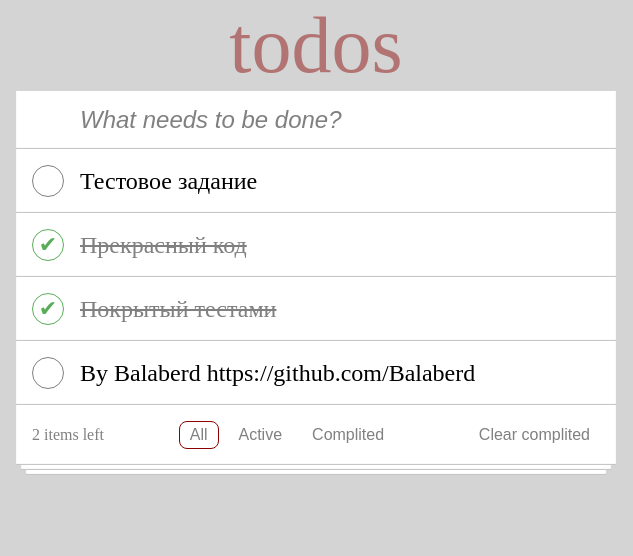
Scenario: App tests › add todo
Expected: the number of elements with test id "todo-item" is 4, x1=16 y1=149 x2=616 y2=213; x1=16 y1=213 x2=616 y2=277; x1=16 y1=277 x2=616 y2=341; x1=16 y1=341 x2=616 y2=405
In the field with test id "input-elem": x=235, y=120 x1=80 y1=107 x2=390 y2=133, type "hello world"
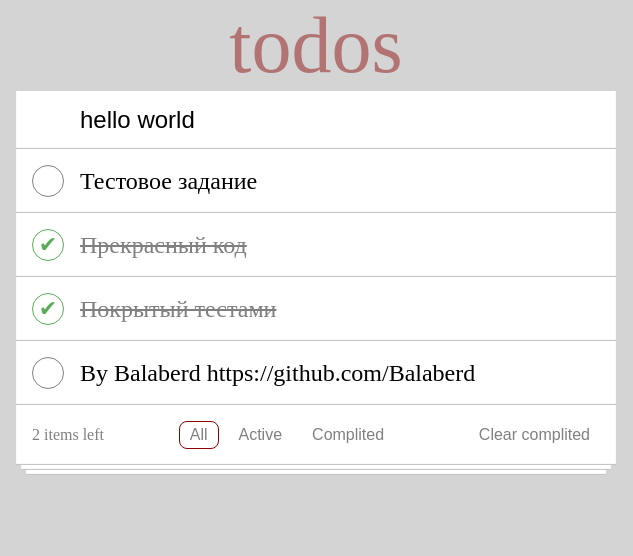
Press Enter in the field with test id "input-elem", box x1=80 y1=107 x2=390 y2=133
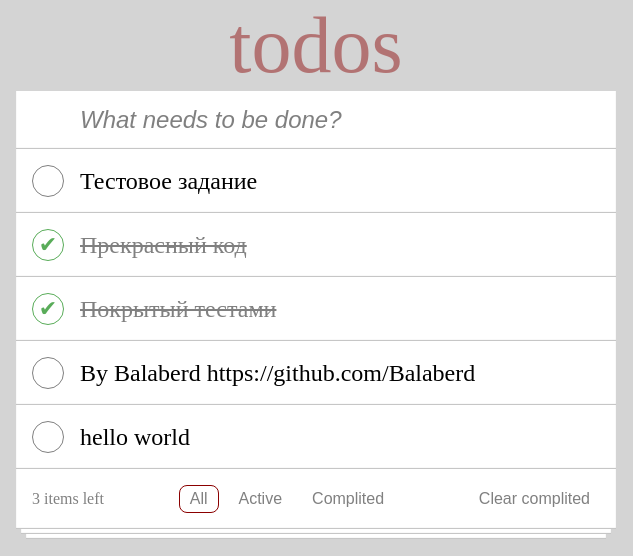
Expected: the number of elements with test id "todo-item" is 5, x1=16 y1=149 x2=616 y2=213; x1=16 y1=213 x2=616 y2=277; x1=16 y1=277 x2=616 y2=341; x1=16 y1=341 x2=616 y2=405; x1=16 y1=405 x2=616 y2=469
